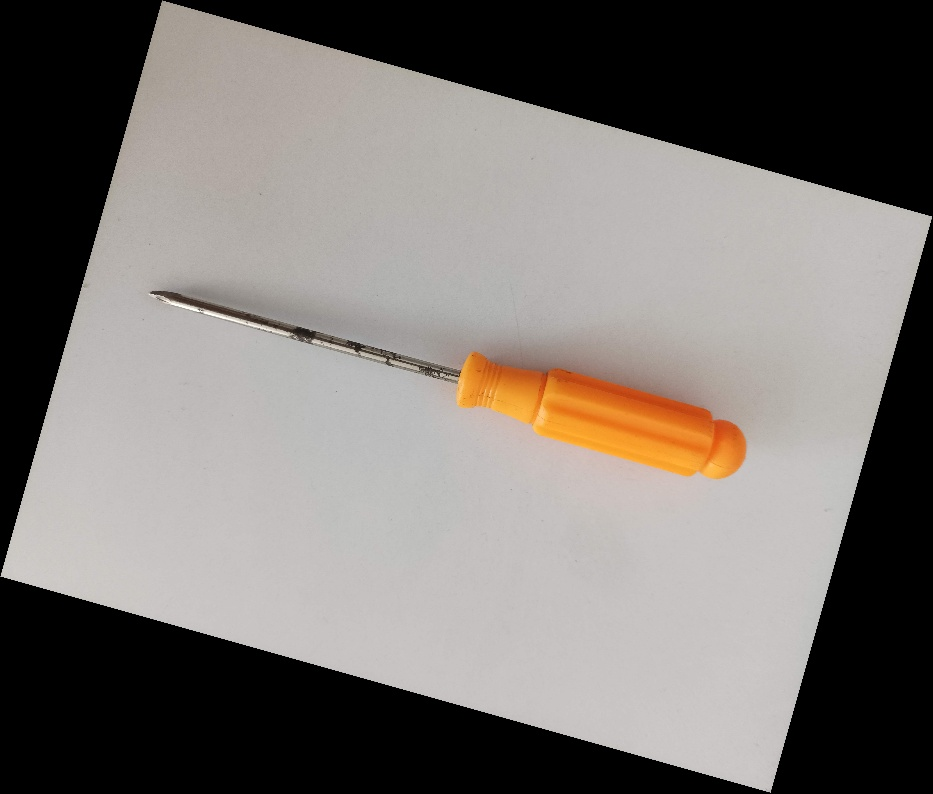screwdriver: (145, 286, 748, 485)
